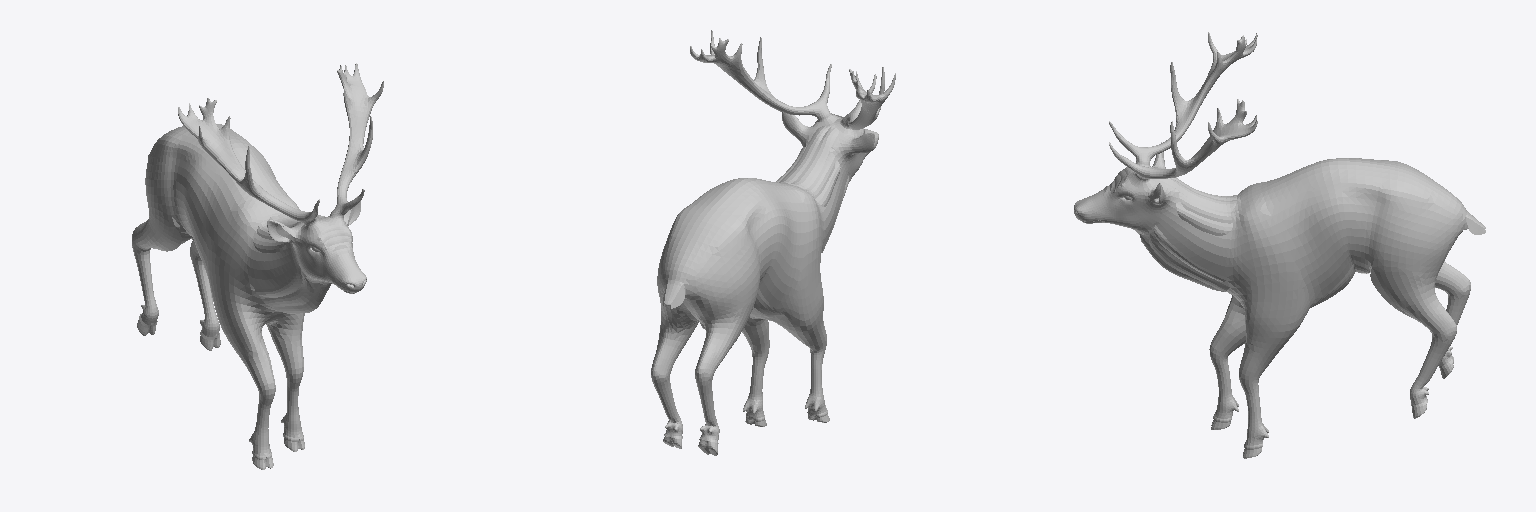
The model's file is frame_0020_uv.obj.
3 renders of one model, left to right at view 1: azimuth 30°, elevation 25°; view 2: azimuth 150°, elevation 25°; view 3: azimuth 270°, elevation 25°, orthographic.
Visible parts, largest first — view 1: pMesh1; view 2: pMesh1; view 3: pMesh1.
Part boxes in pixels (bbox=[...]): pMesh1: bbox=[132, 63, 383, 469]; pMesh1: bbox=[651, 30, 895, 455]; pMesh1: bbox=[1074, 32, 1485, 458].
Bounding box in the file's own units: 1.05 × 2.04 × 2.03.